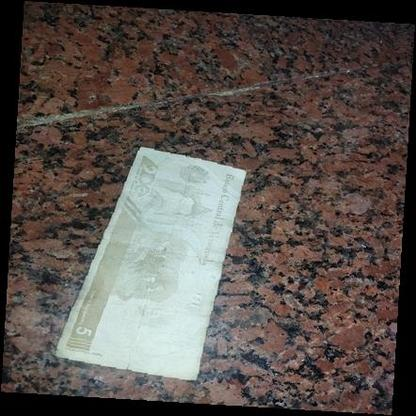five-back-vef: (53, 145, 246, 381)
